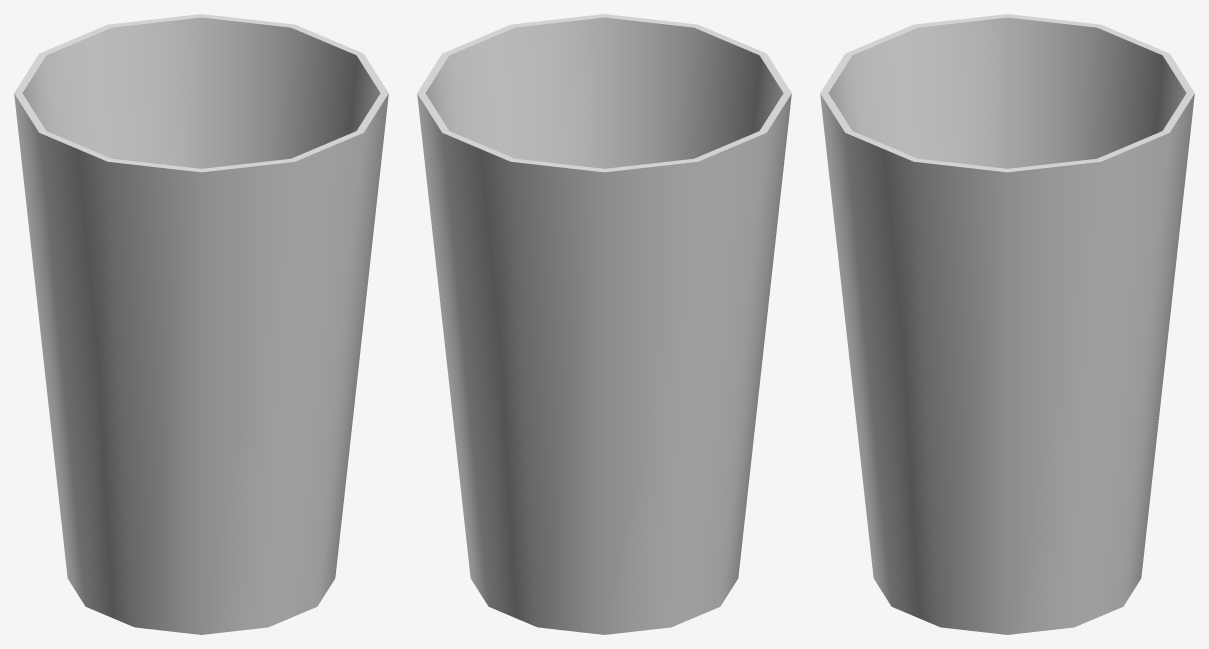
File: FBX_Glass.fbx
3 renders of one model, left to right at view 1: azimuth 30°, elevation 25°; view 2: azimuth 150°, elevation 25°; view 3: azimuth 270°, elevation 25°, orthographic.
Parts seen in each view (by area): view 1: SM_Glass; view 2: SM_Glass; view 3: SM_Glass.
Boxes of the visible parts, x1,y1,x2,y2 form: SM_Glass: [14, 14, 388, 634]; SM_Glass: [417, 14, 791, 634]; SM_Glass: [820, 14, 1194, 634].
Bounding box in the file's own units: 0.07 × 0.1 × 0.07.
